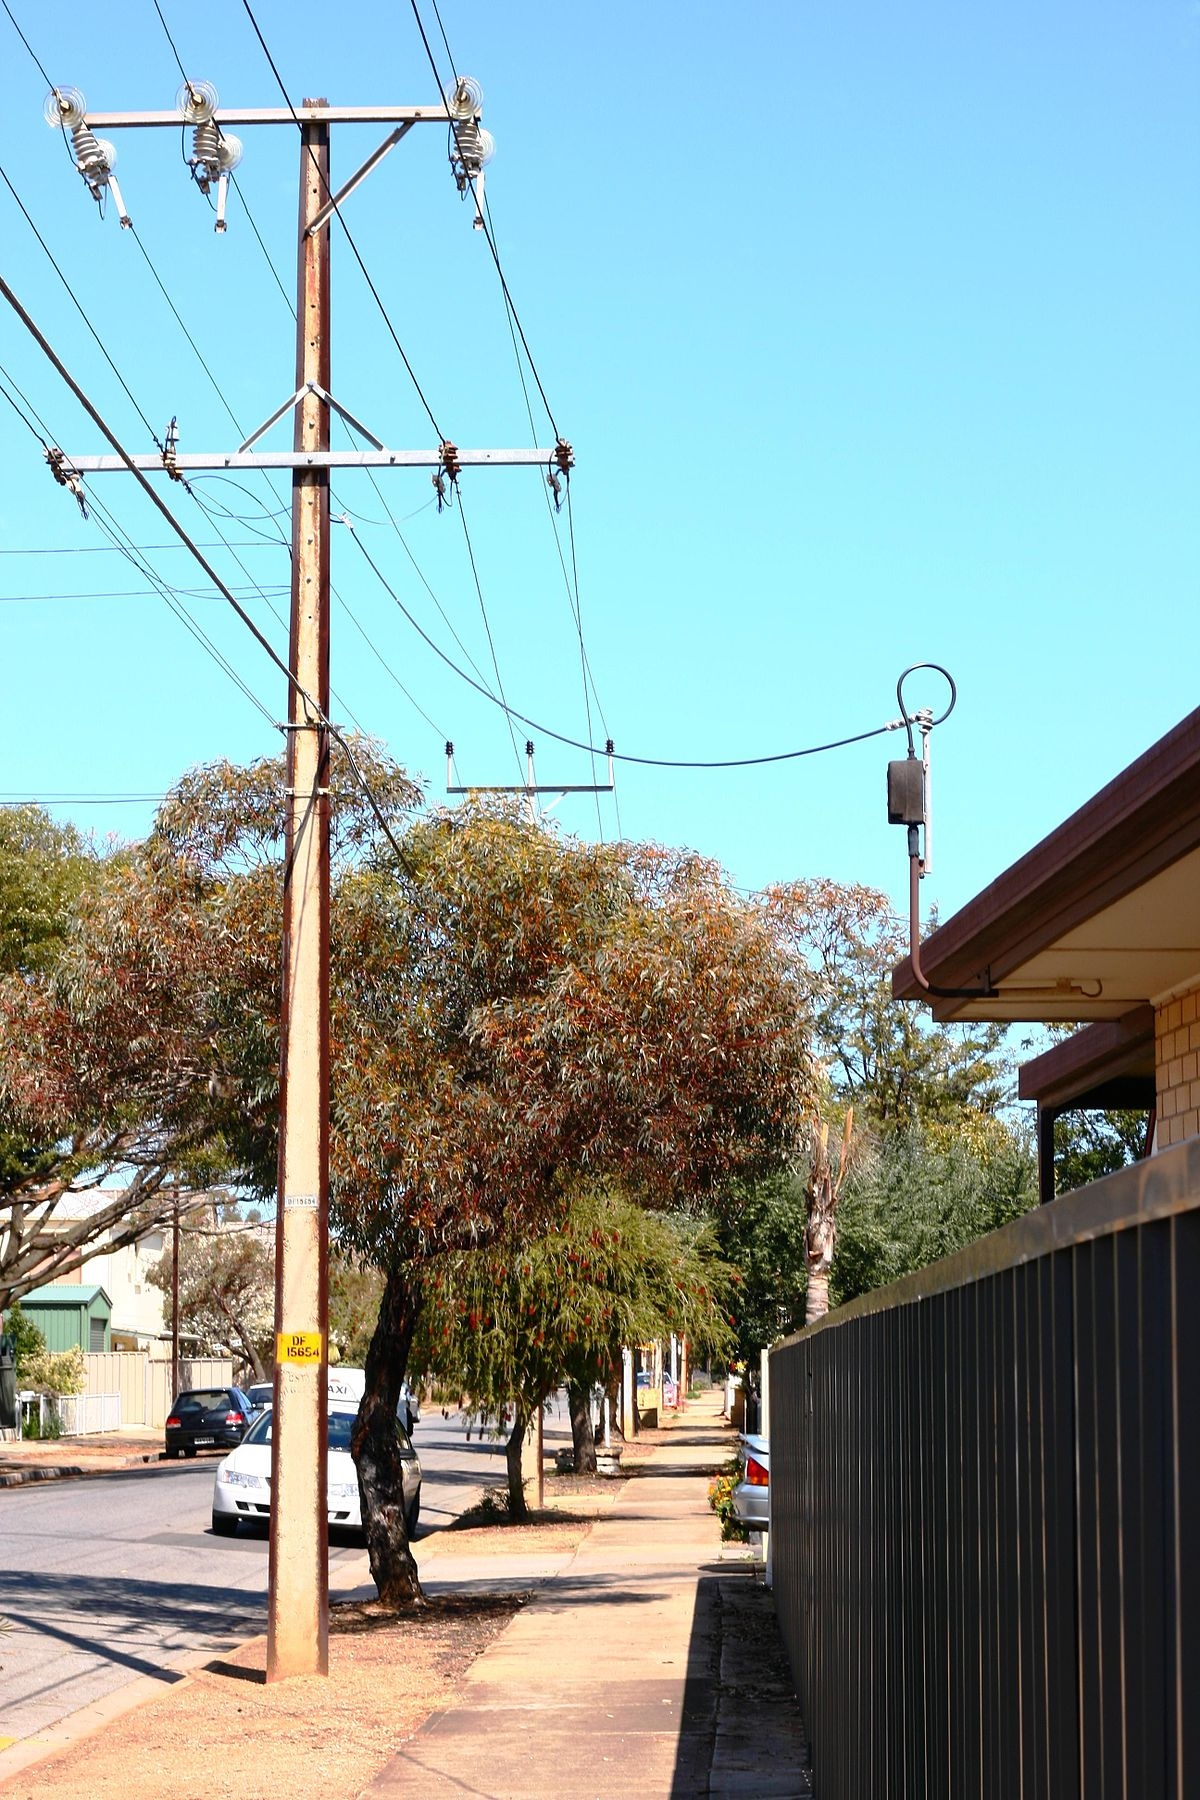pole: (44, 65, 569, 1742)
